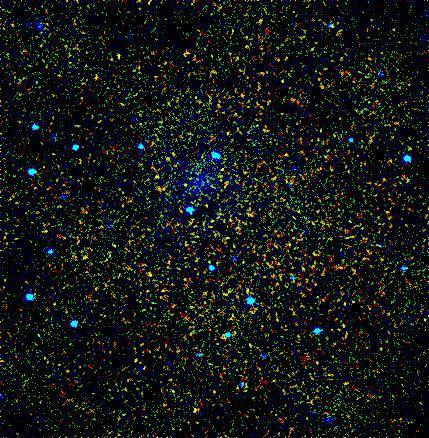star: (179, 397, 209, 427)
